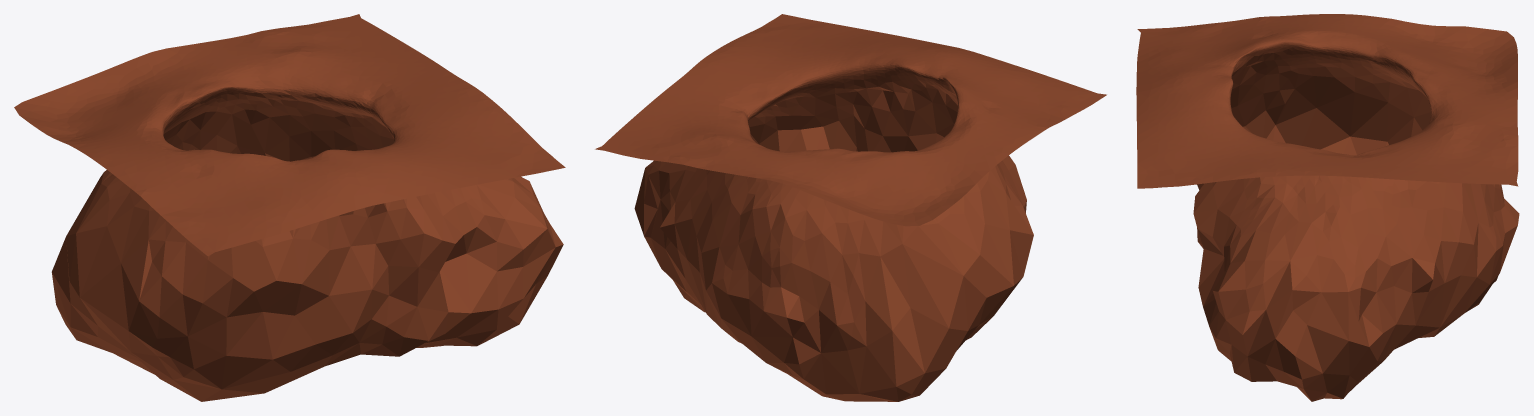
File: crater_test2.dae
3 renders of one model, left to right at view 1: azimuth 30°, elevation 25°; view 2: azimuth 150°, elevation 25°; view 3: azimuth 270°, elevation 25°, orthographic. The views are drawn at different scales.
Visible parts, largest first — view 1: Crater_test2; view 2: Crater_test2; view 3: Crater_test2.
Boxes of the visible parts, x1=… form: Crater_test2: x1=14, y1=14, x2=565, y2=401; Crater_test2: x1=595, y1=14, x2=1106, y2=401; Crater_test2: x1=1136, y1=14, x2=1519, y2=401.
Bounding box in the file's own units: 19.49 × 16.26 × 12.3.
